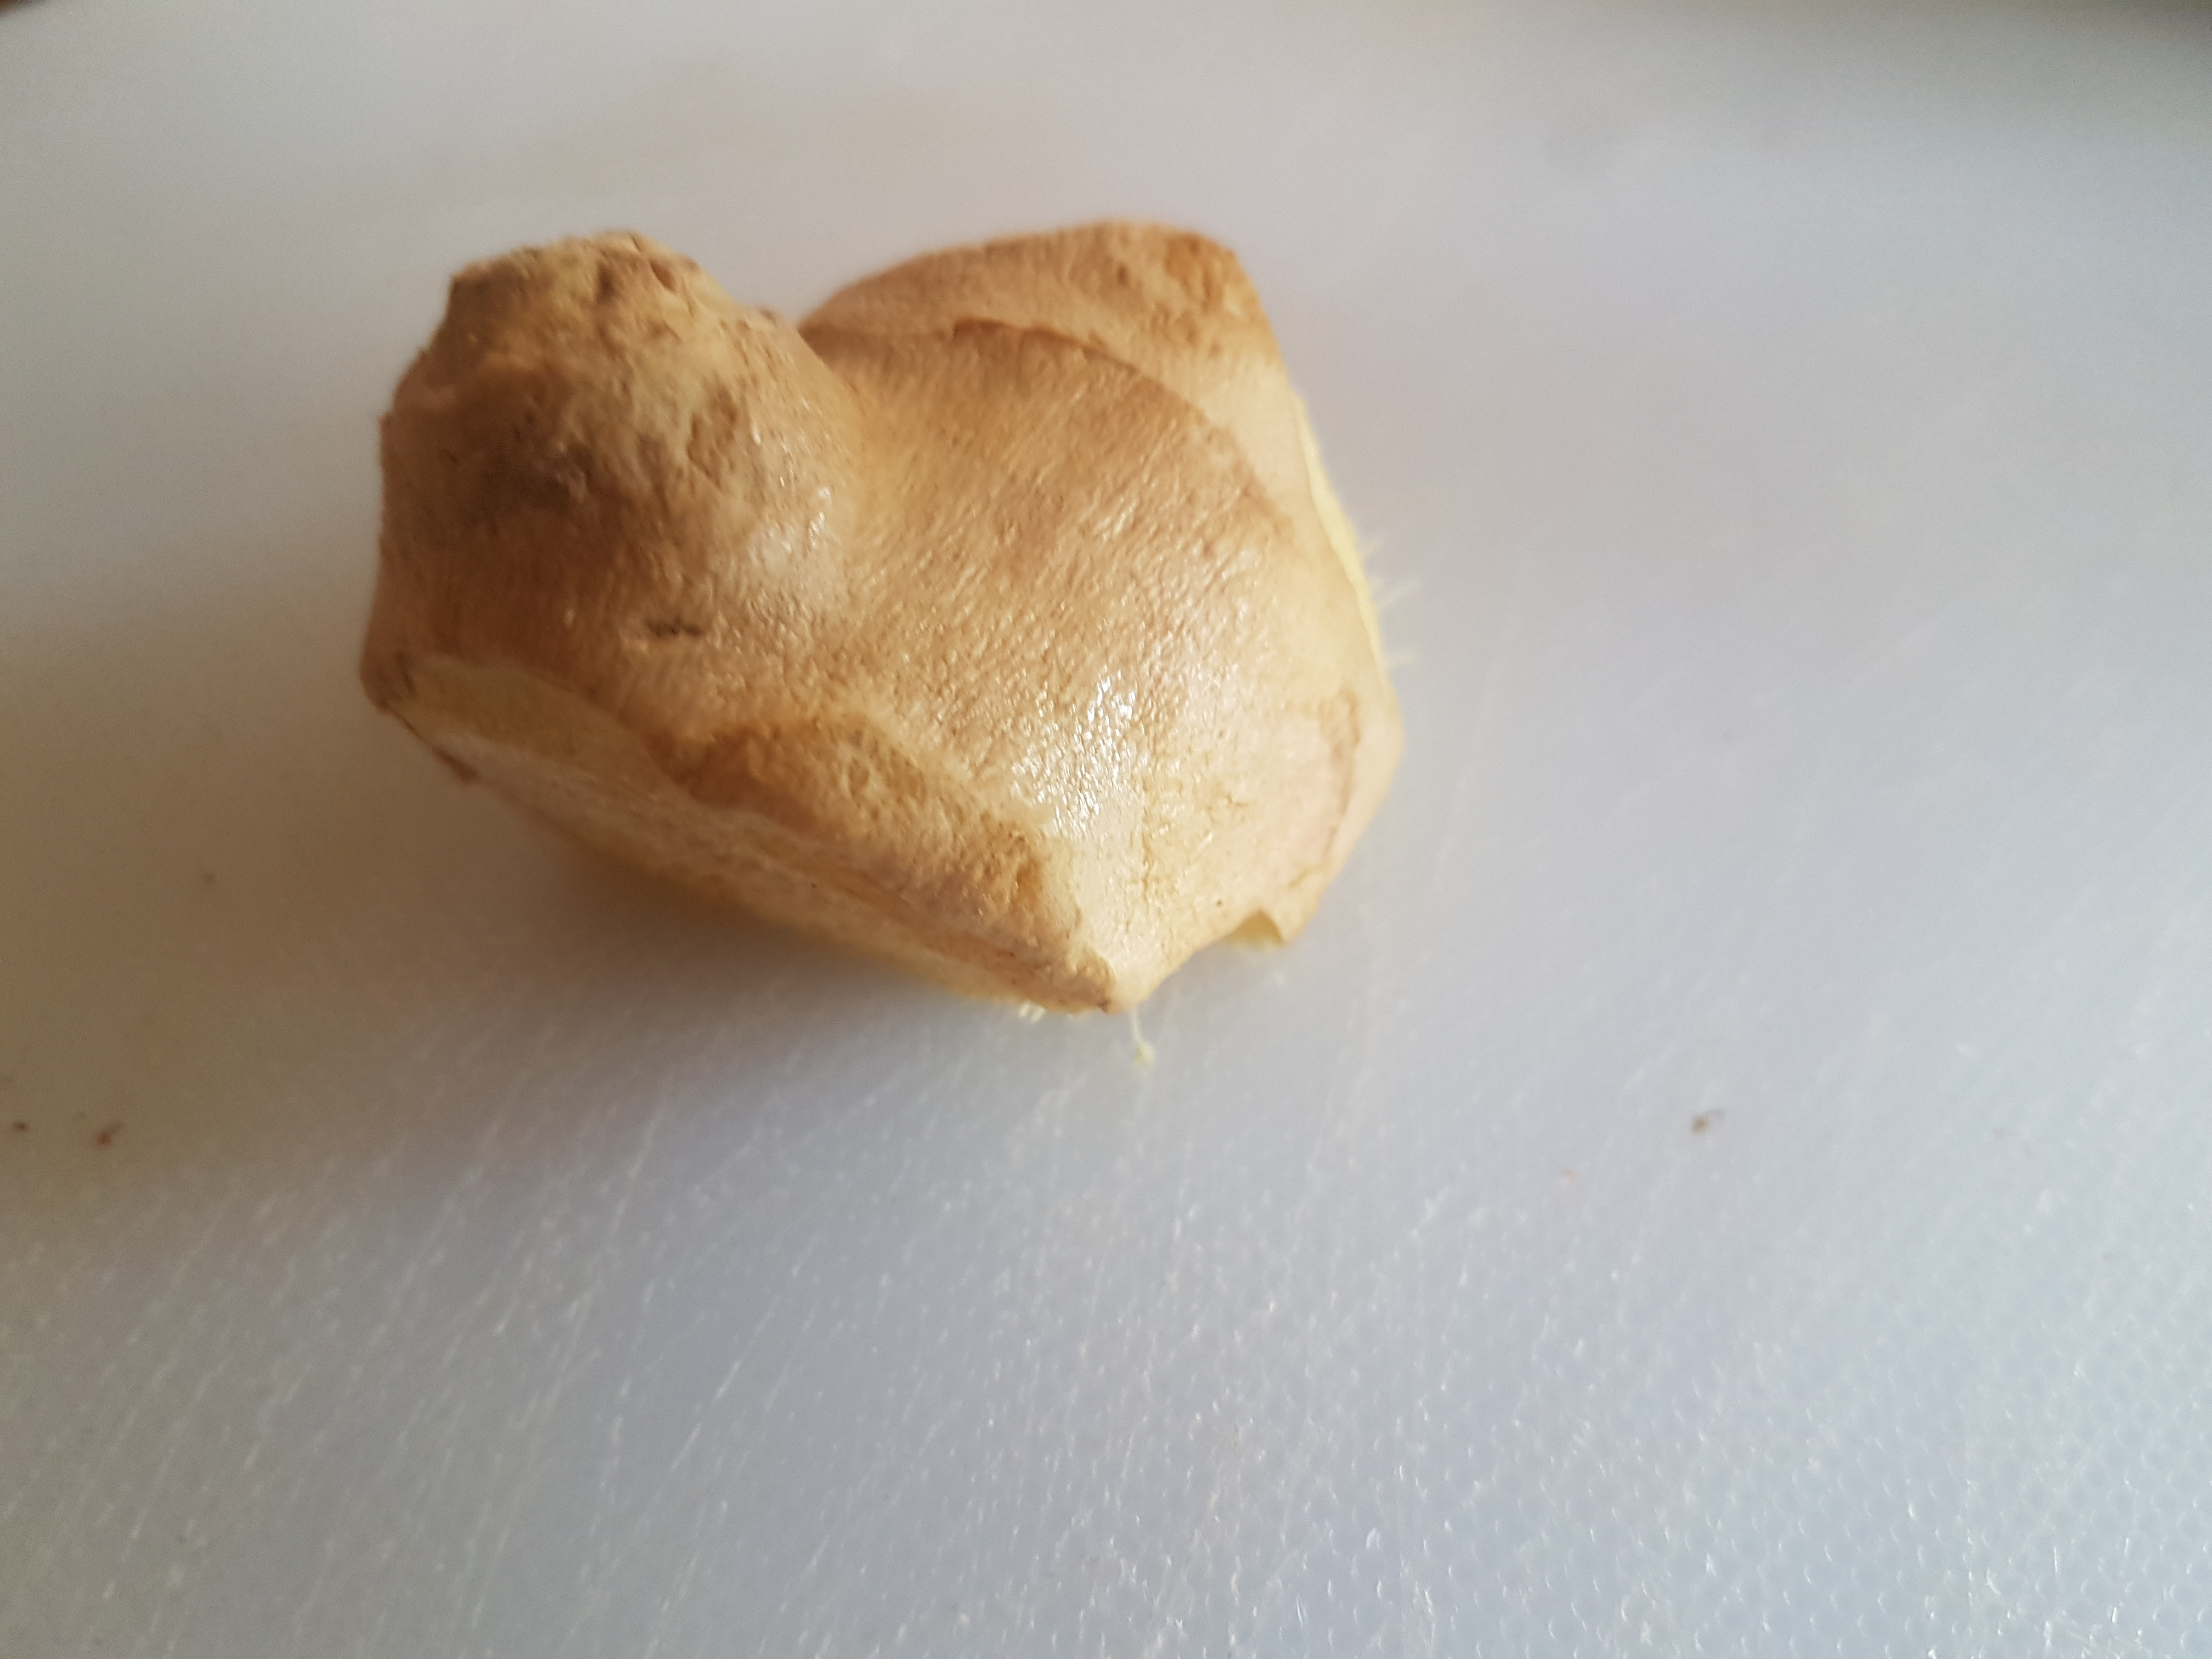Minced ginger: (347, 218, 1413, 1039)
